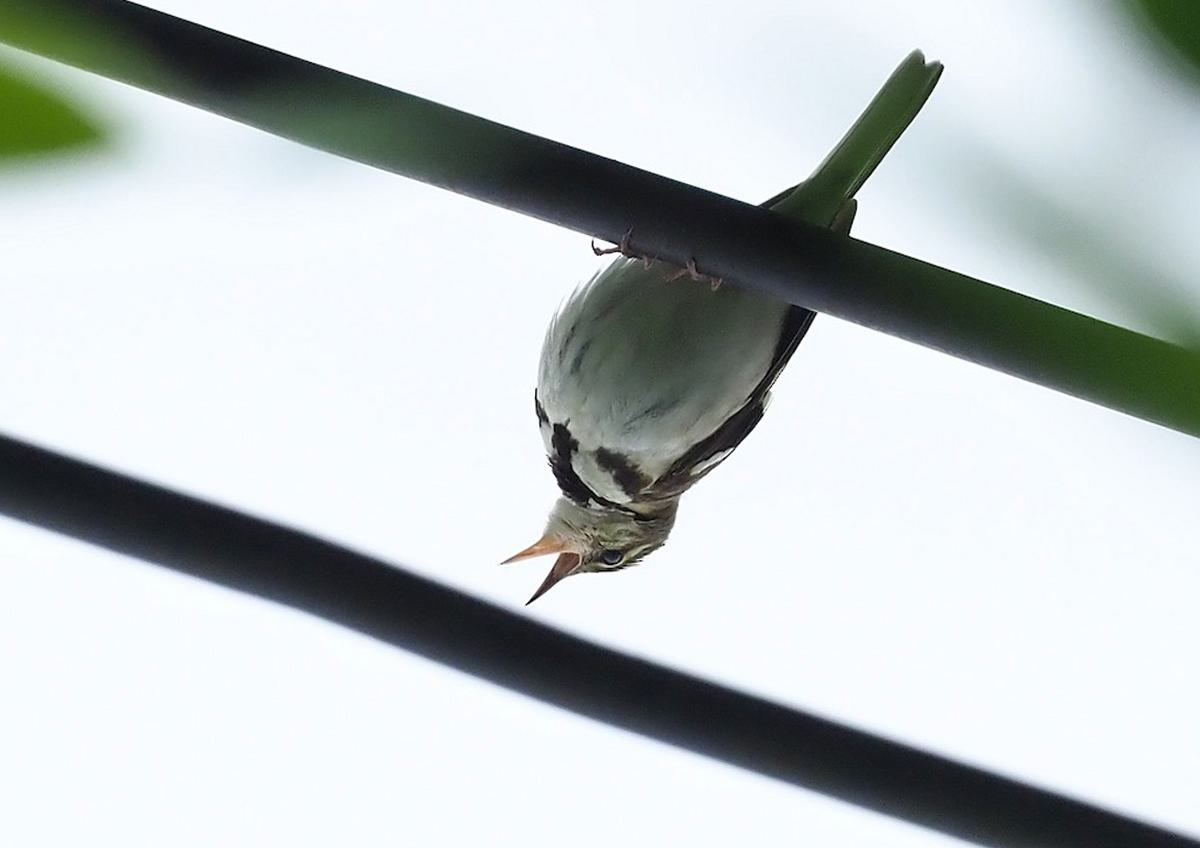wagtail: (469, 148, 906, 614)
